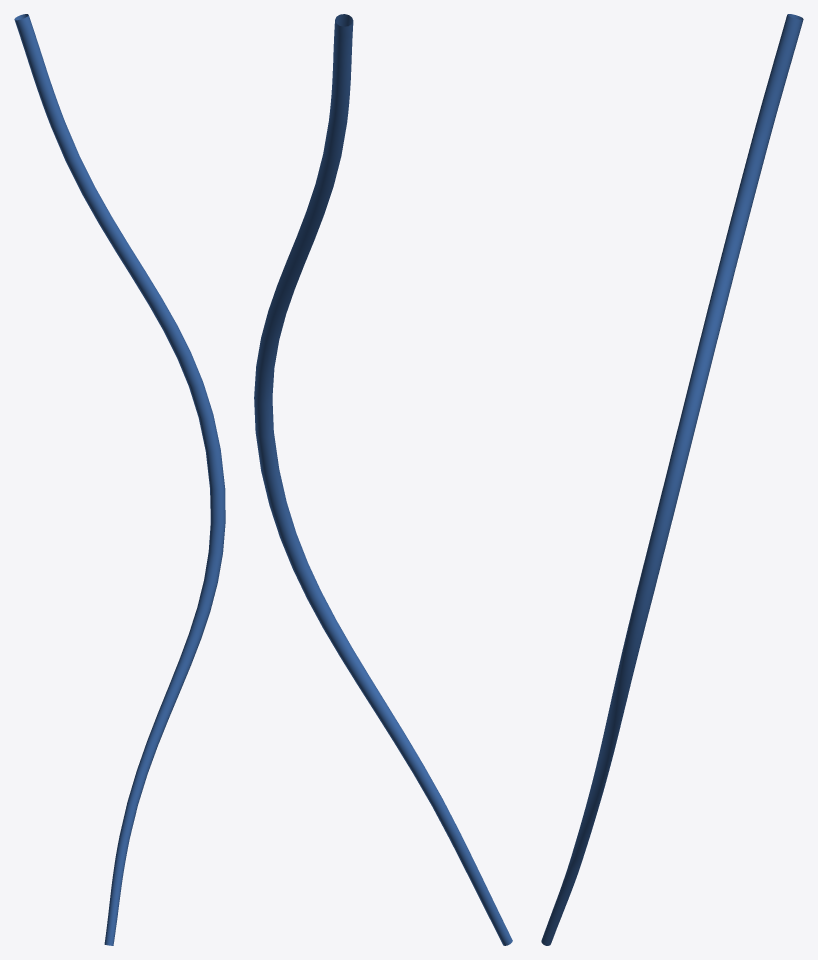
The picture shows the model from 3 angles, left to right: view 1: azimuth 30°, elevation 25°; view 2: azimuth 150°, elevation 25°; view 3: azimuth 270°, elevation 25°; orthographic projection. The views are drawn at different scales.
Visible parts, largest first — view 1: 左侧眼上静脉; view 2: 左侧眼上静脉; view 3: 左侧眼上静脉.
Part boxes in pixels (x1=…): 左侧眼上静脉: x1=14, y1=14, x2=225, y2=945; 左侧眼上静脉: x1=254, y1=14, x2=512, y2=945; 左侧眼上静脉: x1=541, y1=14, x2=803, y2=945.
Bounding box in the file's own units: 0.0182 × 0.09 × 0.0227.
